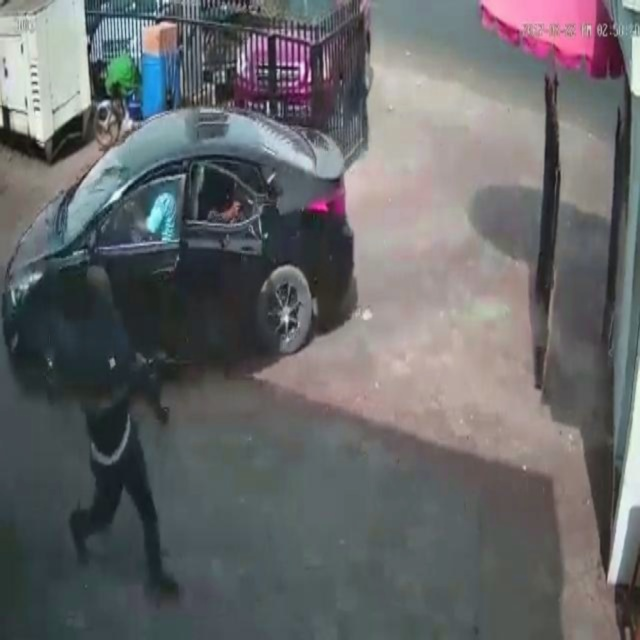gun: (117, 345, 189, 425), (223, 180, 279, 215)
